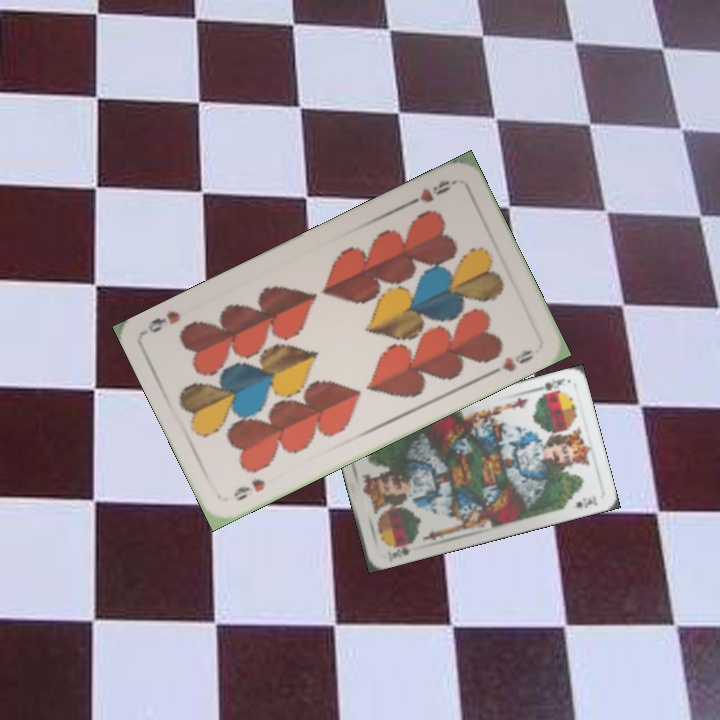H9: (402, 176, 458, 210), (229, 474, 268, 504)
SK: (530, 374, 568, 398), (387, 542, 413, 558)
